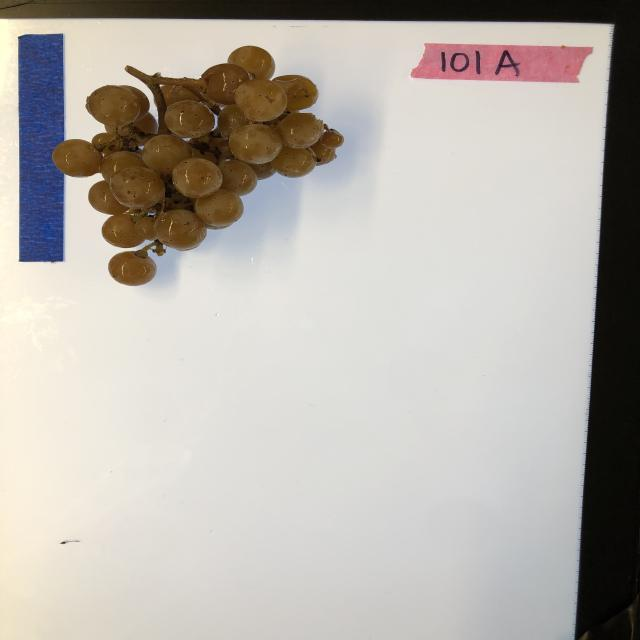grape_cluster: (52, 44, 346, 287)
index: (408, 40, 592, 82)
measure_label: (18, 32, 68, 264)
